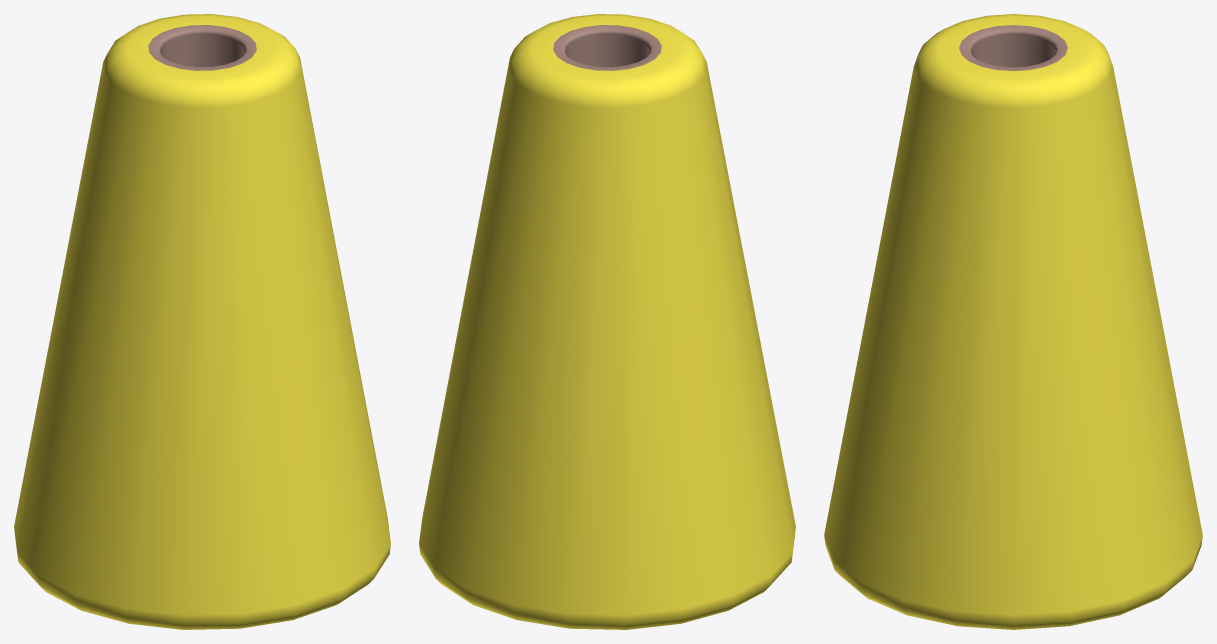
The model's file is Public_19_Skein_of_thread_6.glb.
3 renders of one model, left to right at view 1: azimuth 30°, elevation 25°; view 2: azimuth 150°, elevation 25°; view 3: azimuth 270°, elevation 25°, orthographic.
Visible parts, largest first — view 1: Public_19_Skein_of_thread_6; view 2: Public_19_Skein_of_thread_6; view 3: Public_19_Skein_of_thread_6.
Boxes of the visible parts, <box> form: Public_19_Skein_of_thread_6: <box>14,14,390,629</box>; Public_19_Skein_of_thread_6: <box>419,14,795,629</box>; Public_19_Skein_of_thread_6: <box>824,14,1202,629</box>.
Bounding box in the file's own units: 0.3044 × 0.4513 × 0.3044.
Materials: 1 (1 with a texture image).
